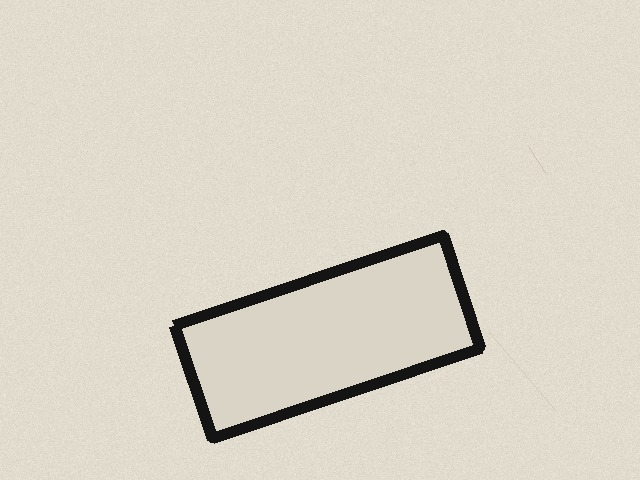parking_area: (174, 235, 480, 438)
